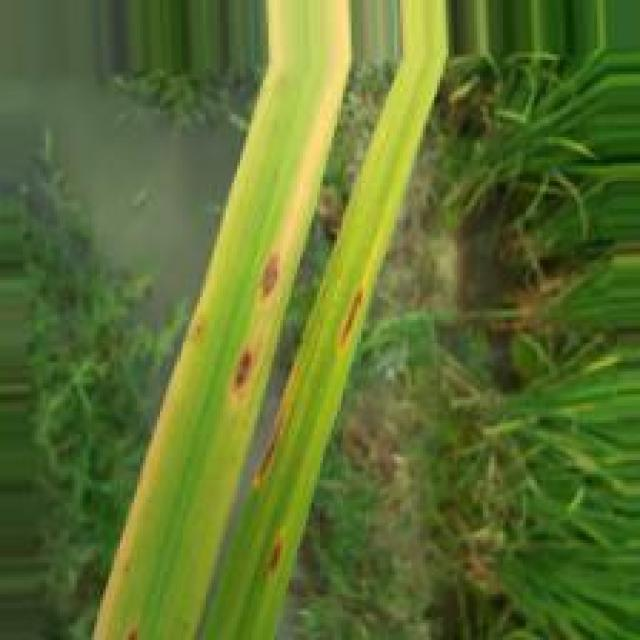Brown_Spot: (253, 394, 292, 490), (335, 275, 367, 359), (230, 340, 264, 405), (262, 527, 290, 580), (258, 249, 287, 296), (189, 311, 210, 347), (124, 619, 144, 640)
